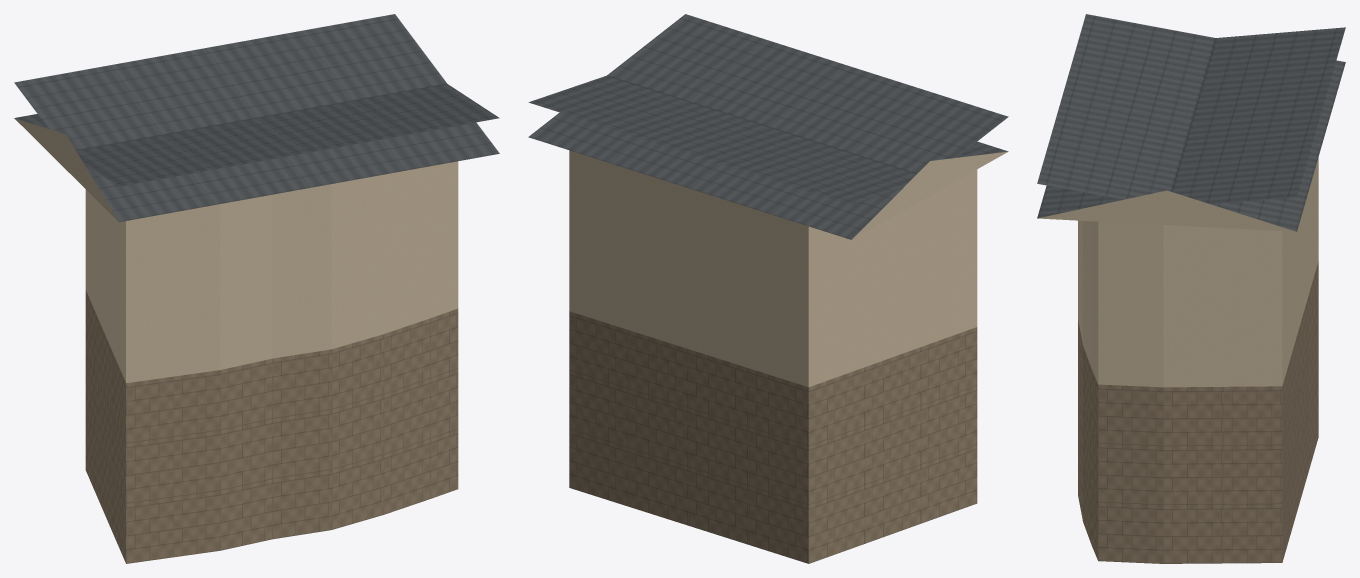
Rendered from bld_c41_-47_456.gltf.
The picture shows the model from 3 angles, left to right: view 1: azimuth 30°, elevation 25°; view 2: azimuth 150°, elevation 25°; view 3: azimuth 270°, elevation 25°; orthographic projection. The views are drawn at different scales.
Visible parts, largest first — view 1: bld_c41_-47_456; view 2: bld_c41_-47_456; view 3: bld_c41_-47_456.
Boxes of the visible parts, box(x1,y1,x2,y2) form: bld_c41_-47_456: box(14, 14, 499, 563); bld_c41_-47_456: box(528, 14, 1008, 563); bld_c41_-47_456: box(1037, 14, 1345, 563).
Size of the model in its own units: 11.3 by 11 by 8.05.
4 materials, 4 textured.
